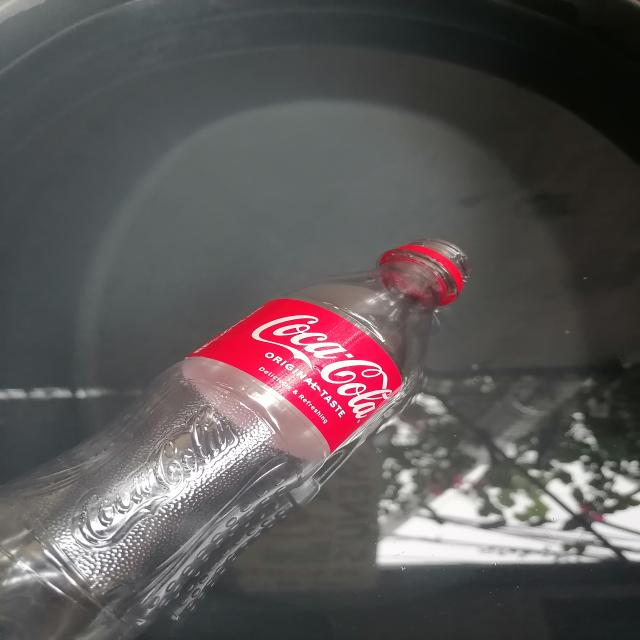Plastic Bottle: (0, 214, 503, 639)
